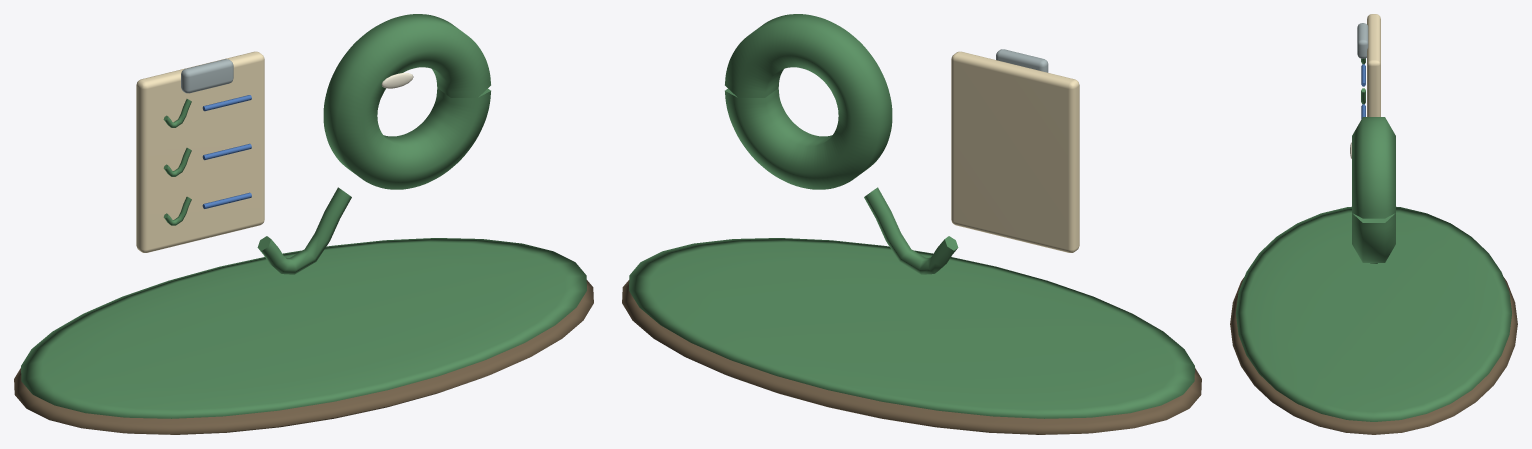
Rendered from complete-second-finished-whole.glb.
The picture shows the model from 3 angles, left to right: view 1: azimuth 30°, elevation 25°; view 2: azimuth 150°, elevation 25°; view 3: azimuth 270°, elevation 25°; orthographic projection. The views are drawn at different scales.
Visible parts, largest first — view 1: complete-second-finished-whole_surface_01, complete-second-finished-whole_surface_02, complete-second-finished-whole_surface_00, complete-second-finished-whole_surface_03, complete-second-finished-whole_surface_04; view 2: complete-second-finished-whole_surface_01, complete-second-finished-whole_surface_02, complete-second-finished-whole_surface_00, complete-second-finished-whole_surface_03; view 3: complete-second-finished-whole_surface_01, complete-second-finished-whole_surface_00, complete-second-finished-whole_surface_02, complete-second-finished-whole_surface_03.
Boxes of the visible parts, x1,y1,x2,y2 form: complete-second-finished-whole_surface_01: (21,14,586,418); complete-second-finished-whole_surface_02: (136,51,264,252); complete-second-finished-whole_surface_00: (14,280,593,434); complete-second-finished-whole_surface_03: (181,59,233,93); complete-second-finished-whole_surface_04: (202,95,251,208); complete-second-finished-whole_surface_01: (629,14,1194,418); complete-second-finished-whole_surface_02: (951,51,1079,252); complete-second-finished-whole_surface_00: (622,280,1201,434); complete-second-finished-whole_surface_03: (996,49,1048,72); complete-second-finished-whole_surface_01: (1236,58,1511,421); complete-second-finished-whole_surface_00: (1230,277,1517,434); complete-second-finished-whole_surface_02: (1367,14,1380,116); complete-second-finished-whole_surface_03: (1357,23,1368,58).
Bounding box in the file's own units: 4.56 × 2.54 × 2.5.
